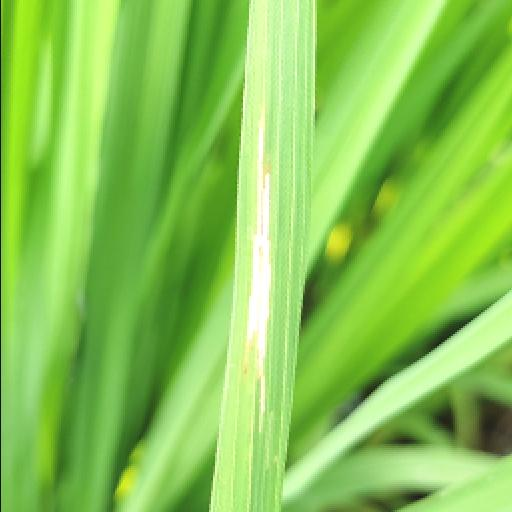Bacterial Leaf Blight: (238, 48, 280, 446)
